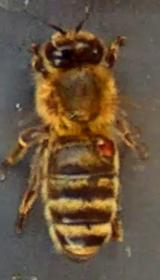varroa_mite: (83, 128, 120, 166)
